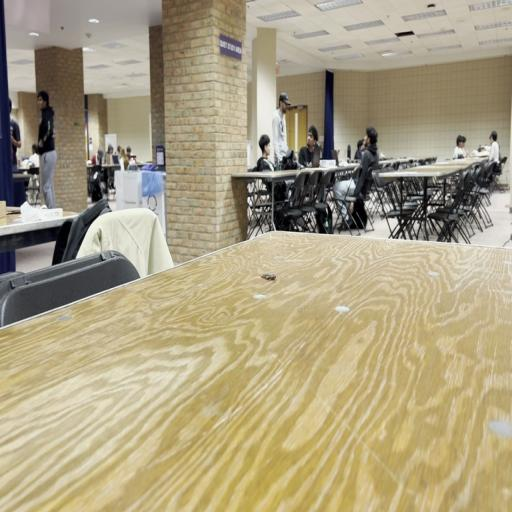cockroach: (260, 273, 276, 281)
